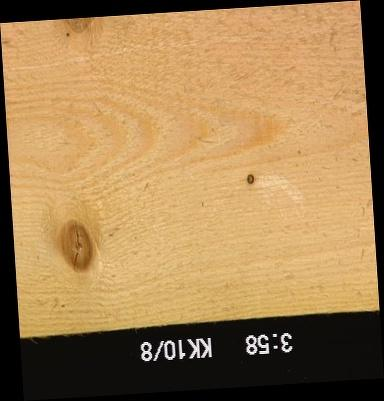dry_knot: (245, 172, 256, 187)
edge_knot: (60, 17, 98, 37)
sound_knot: (57, 218, 94, 273)
